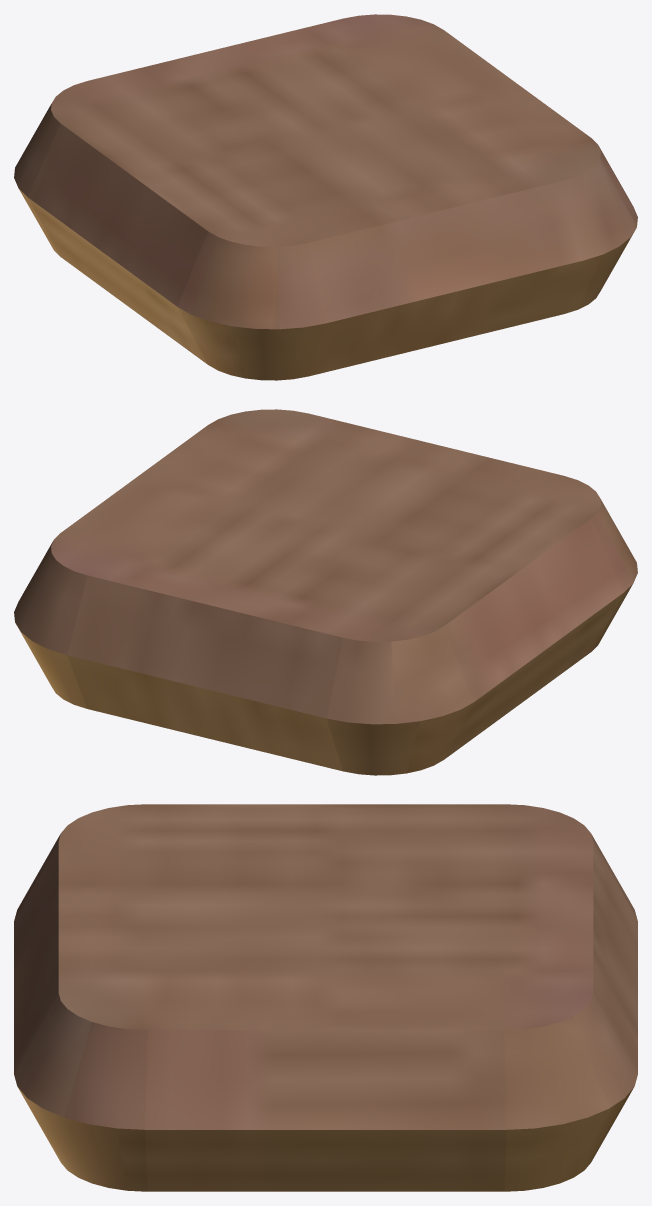
File: BLENDERGLB.glb
The picture shows the model from 3 angles, top to bottom: view 1: azimuth 30°, elevation 25°; view 2: azimuth 150°, elevation 25°; view 3: azimuth 270°, elevation 25°; orthographic projection. The views are drawn at different scales.
Parts seen in each view (by area): view 1: Rectangle1001, Rectangle0001; view 2: Rectangle1001, Rectangle0001; view 3: Rectangle1001, Rectangle0001.
Boxes of the visible parts, x1,y1,x2,y2 form: Rectangle1001: (14, 14, 637, 329); Rectangle0001: (19, 189, 634, 380); Rectangle1001: (14, 409, 637, 724); Rectangle0001: (17, 584, 632, 775); Rectangle1001: (14, 804, 637, 1129); Rectangle0001: (18, 1087, 633, 1191).
Size of the model in its own units: 0.07 by 0.02 by 0.07.
2 materials, 2 textured.
